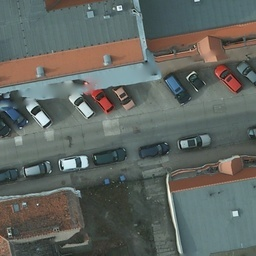car: (161, 75, 192, 104), (24, 97, 52, 128), (213, 65, 243, 93), (69, 92, 99, 119), (177, 131, 212, 153), (22, 157, 53, 179), (93, 147, 126, 167), (113, 85, 136, 113), (58, 153, 88, 174), (137, 141, 171, 158), (91, 89, 113, 114), (185, 71, 207, 93), (5, 109, 26, 128), (0, 165, 20, 184), (0, 113, 11, 135)
